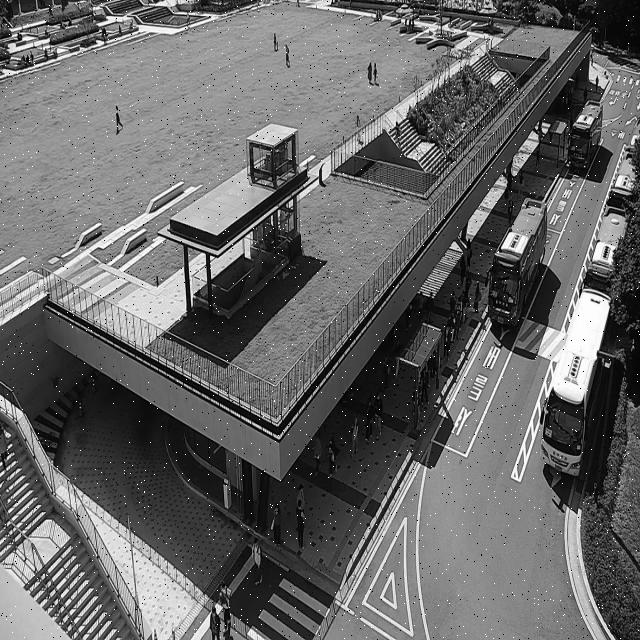queue: (416, 291, 466, 432)
